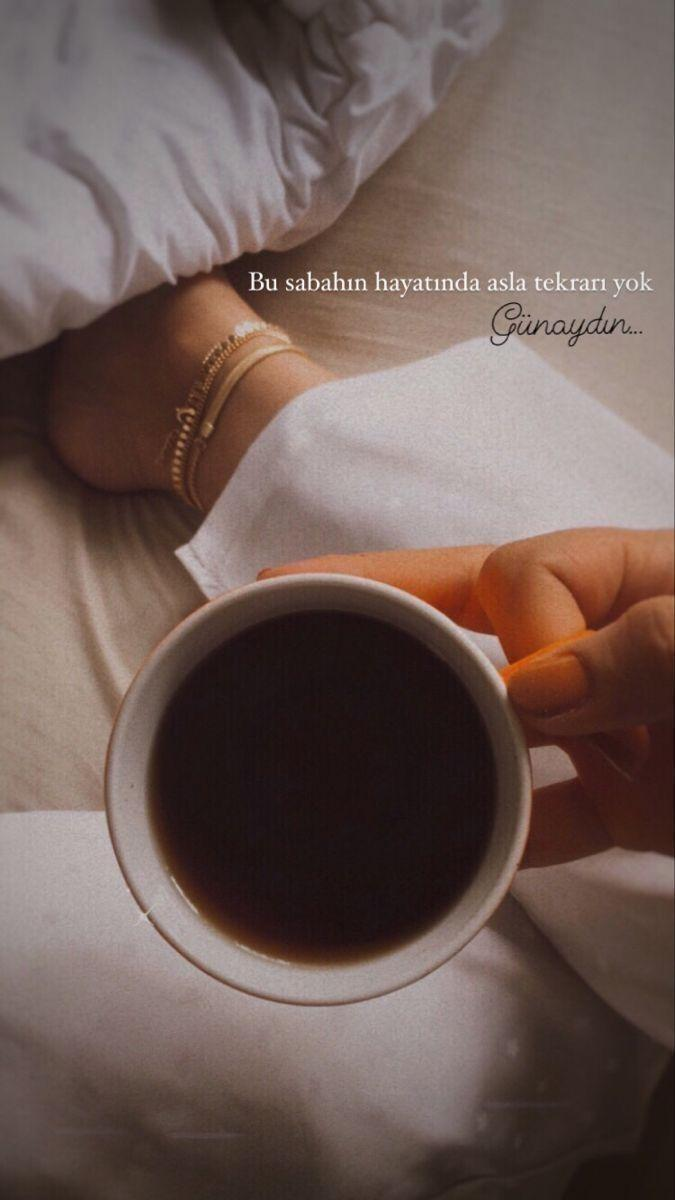cup-handle: (101, 567, 622, 1012)
